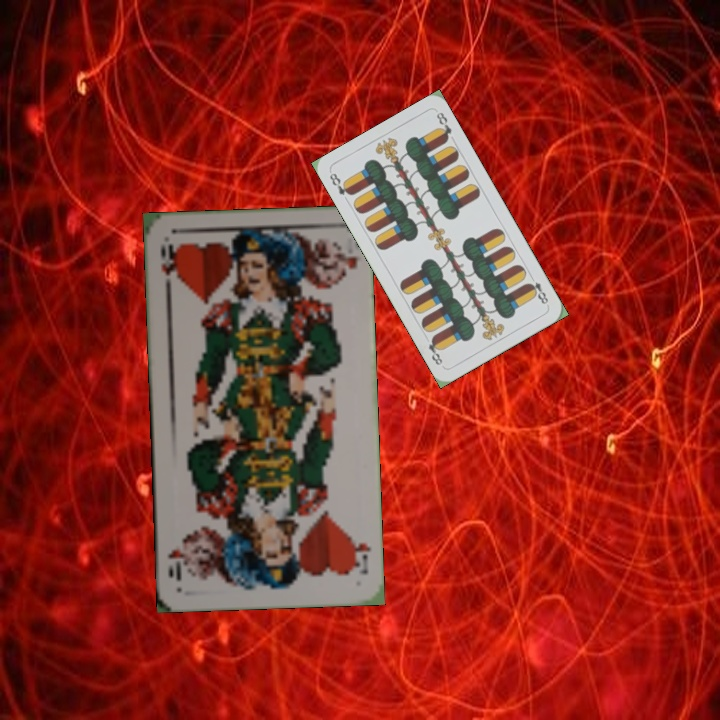E8: (523, 271, 551, 307), (325, 169, 355, 198)
HO: (156, 240, 179, 296), (347, 531, 373, 577)
